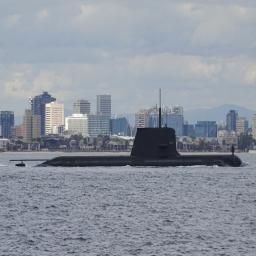submarine: (11, 89, 245, 168)
